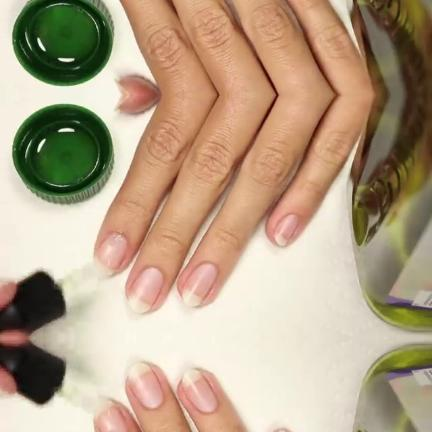Nail: (128, 266, 164, 312), (128, 362, 164, 408), (182, 262, 217, 306), (182, 368, 217, 412), (94, 232, 128, 276), (94, 398, 128, 432), (274, 214, 298, 245), (277, 429, 287, 432)
